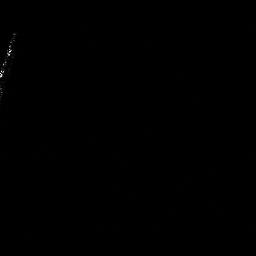ship: (1, 32, 18, 96)
